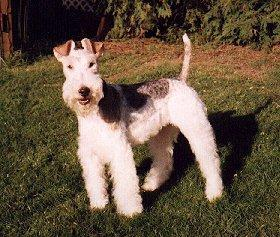wire-haired_fox_terrier: (53, 34, 229, 218)
